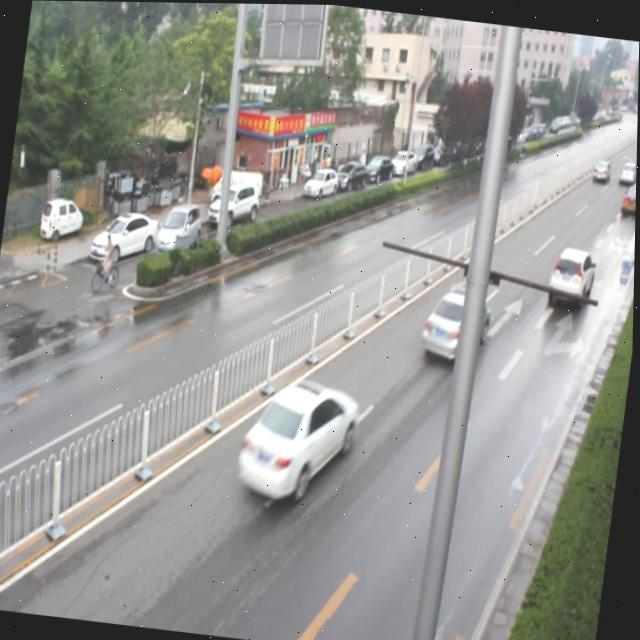car: (234, 374, 362, 511), (419, 287, 493, 368), (545, 241, 596, 309), (617, 179, 637, 214)
